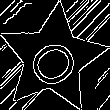O_NE: (20, 27, 85, 90)
